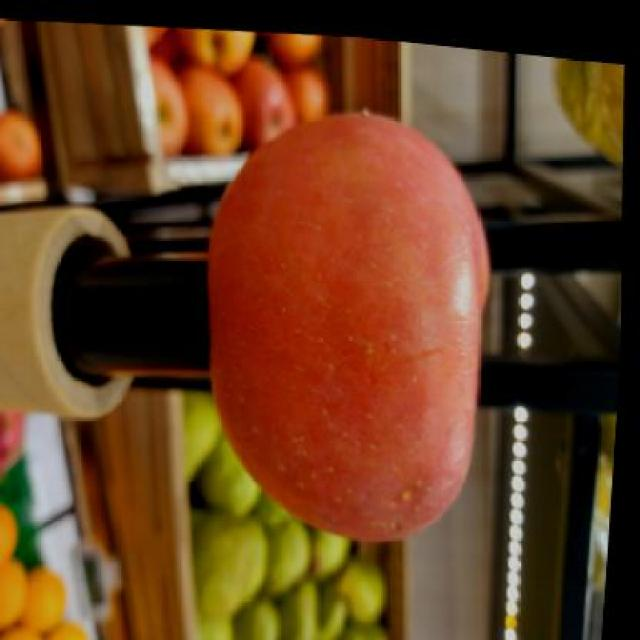Fresh Apple: (214, 114, 494, 546)
